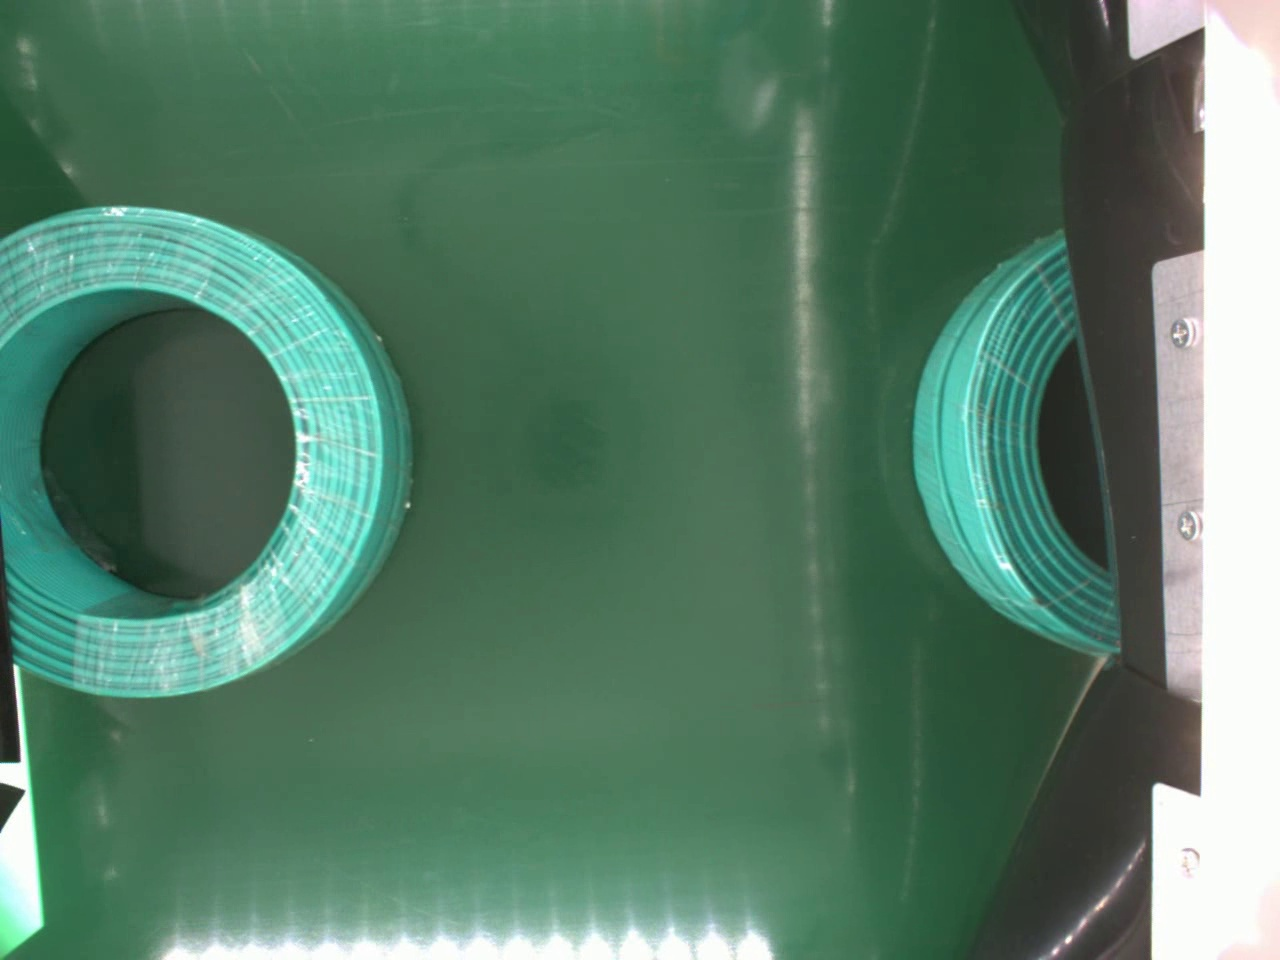green: (0, 201, 408, 701), (906, 216, 1120, 657)
